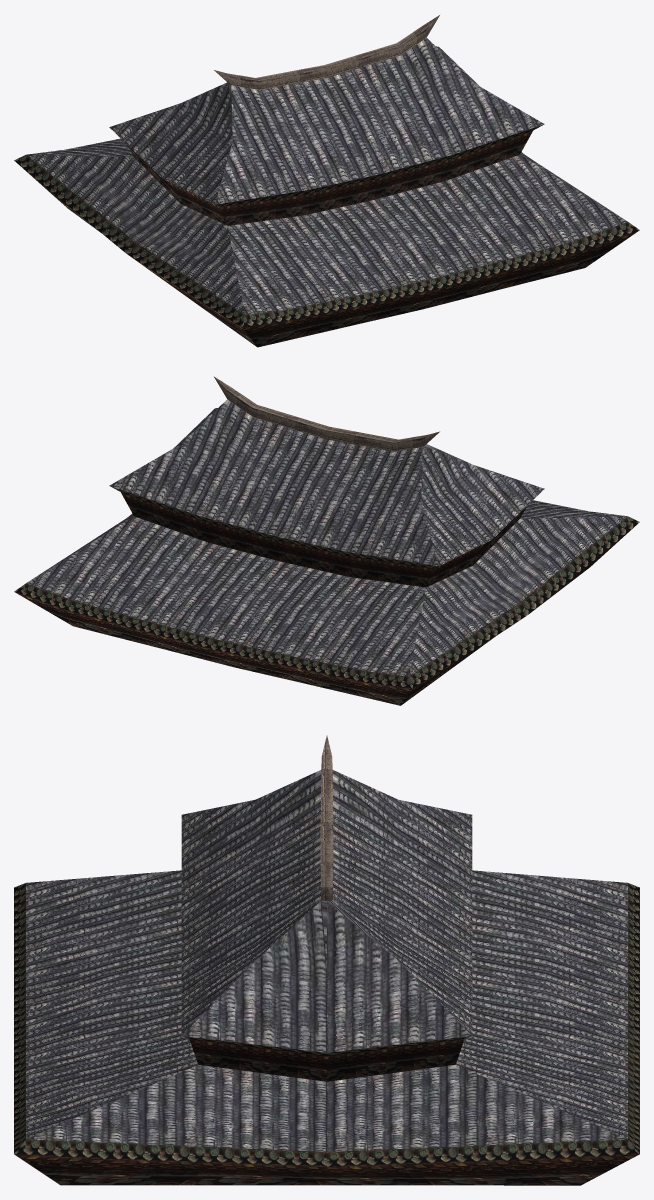
Rendered from RoomG09.obj.
3 renders of one model, top to bottom at view 1: azimuth 30°, elevation 25°; view 2: azimuth 150°, elevation 25°; view 3: azimuth 270°, elevation 25°, orthographic. The views are drawn at different scales.
Visible parts, largest first — view 1: RoomG09; view 2: RoomG09; view 3: RoomG09.
Boxes of the visible parts, left/top/right/bottom form: RoomG09: left=14, top=15, right=639, bottom=347; RoomG09: left=14, top=376, right=639, bottom=705; RoomG09: left=14, top=735, right=639, bottom=1185.
Size of the model in its own units: 501 by 234 by 494.
